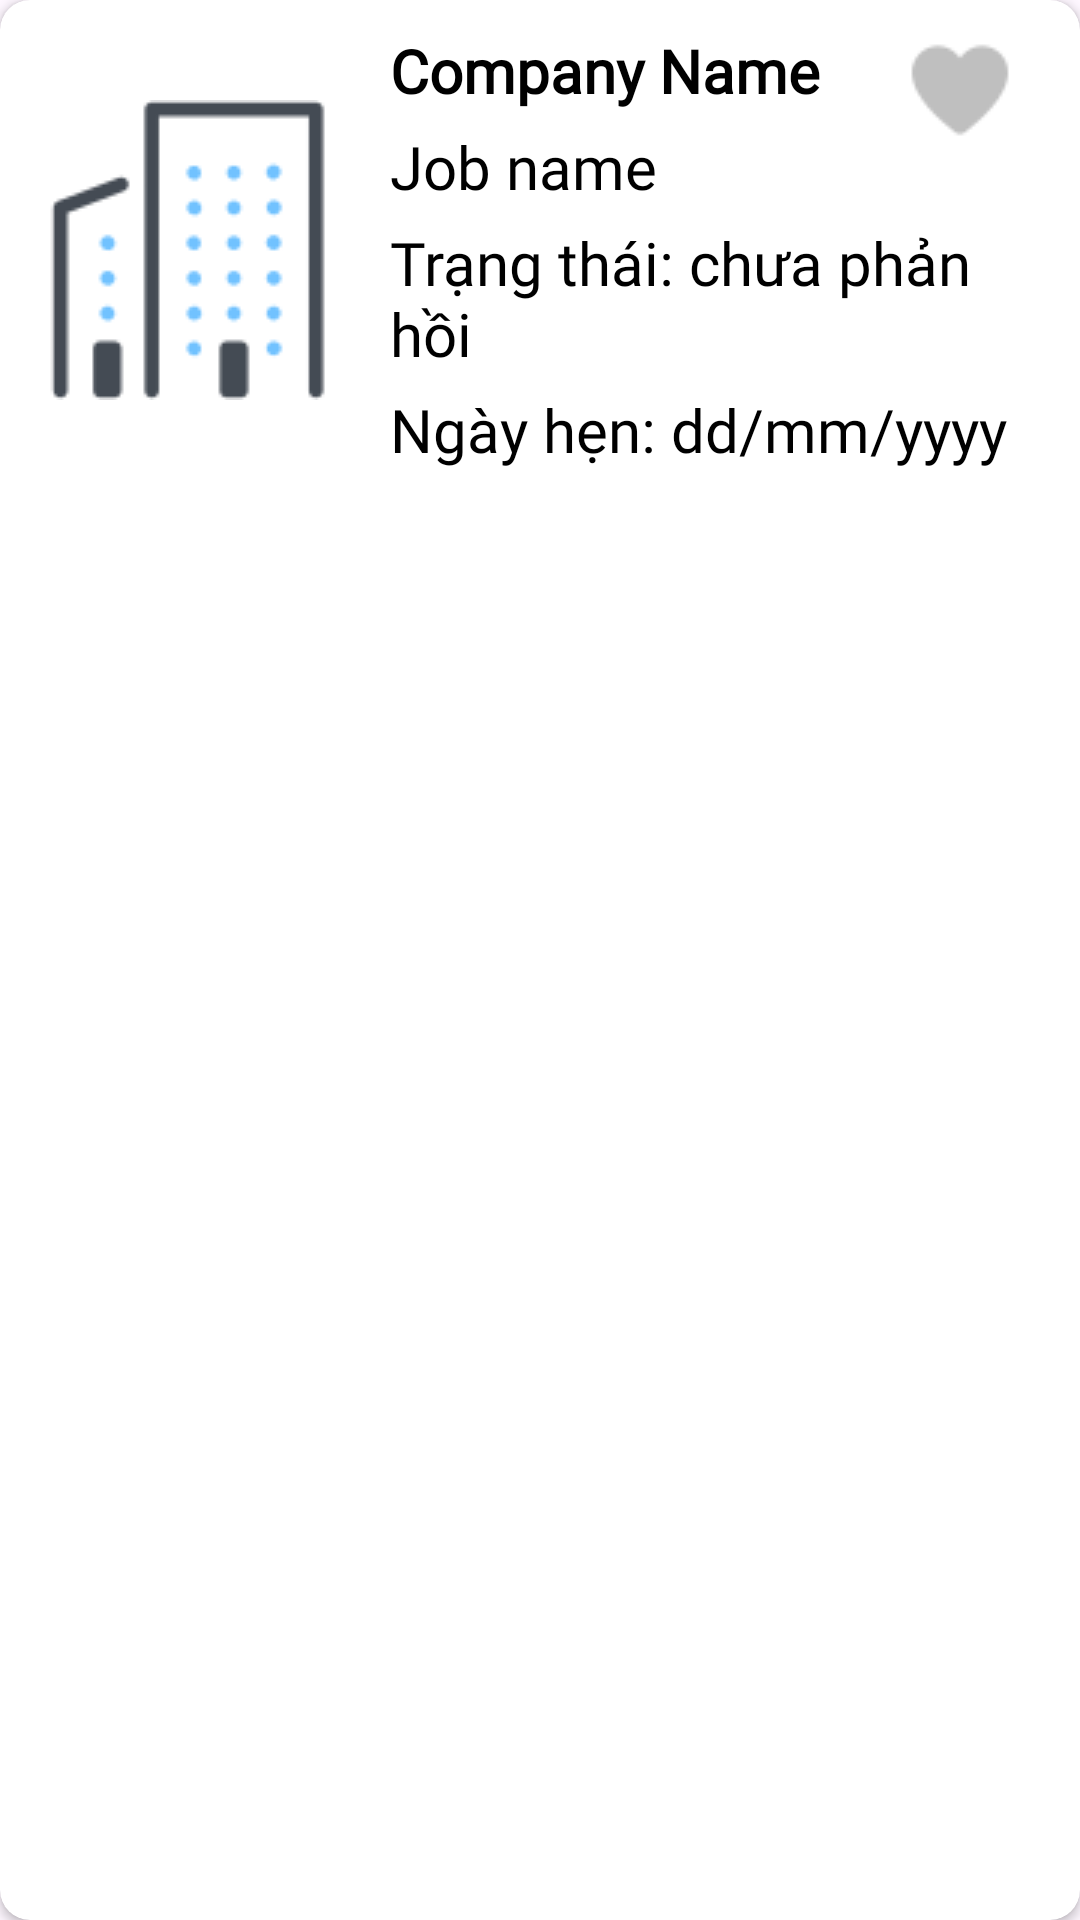

Icons on this 1080×1920 Android screen, each with the point to tap as (x=x, y=y):
heart: (x=960, y=90)
